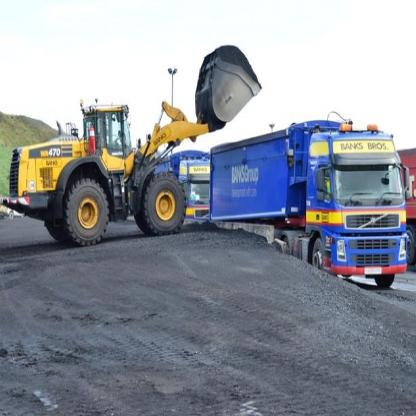bull_dozer/loader/grader: (7, 28, 267, 250)
dump_truck: (208, 122, 410, 291)
